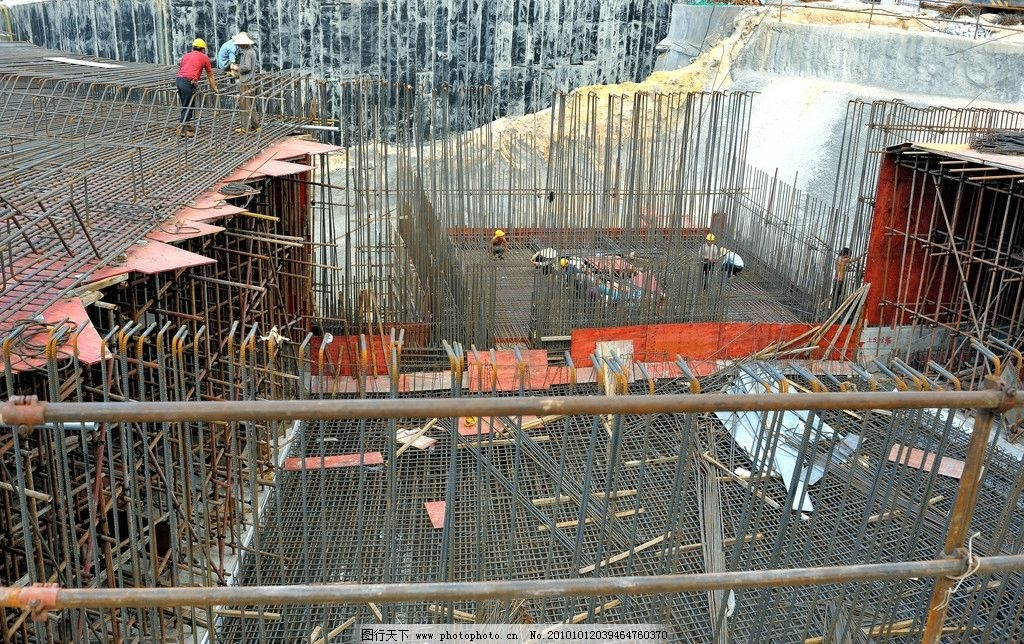none: (840, 247, 852, 260)
white: (234, 32, 250, 52), (718, 246, 729, 257)
yellow: (191, 37, 207, 55), (704, 231, 715, 245), (558, 257, 569, 268), (495, 228, 505, 240)
